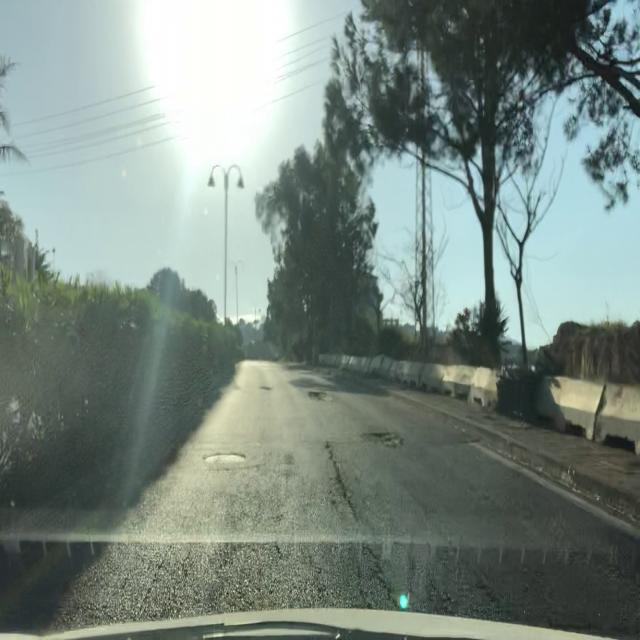Pothole: (364, 429, 406, 450), (306, 389, 336, 404)
